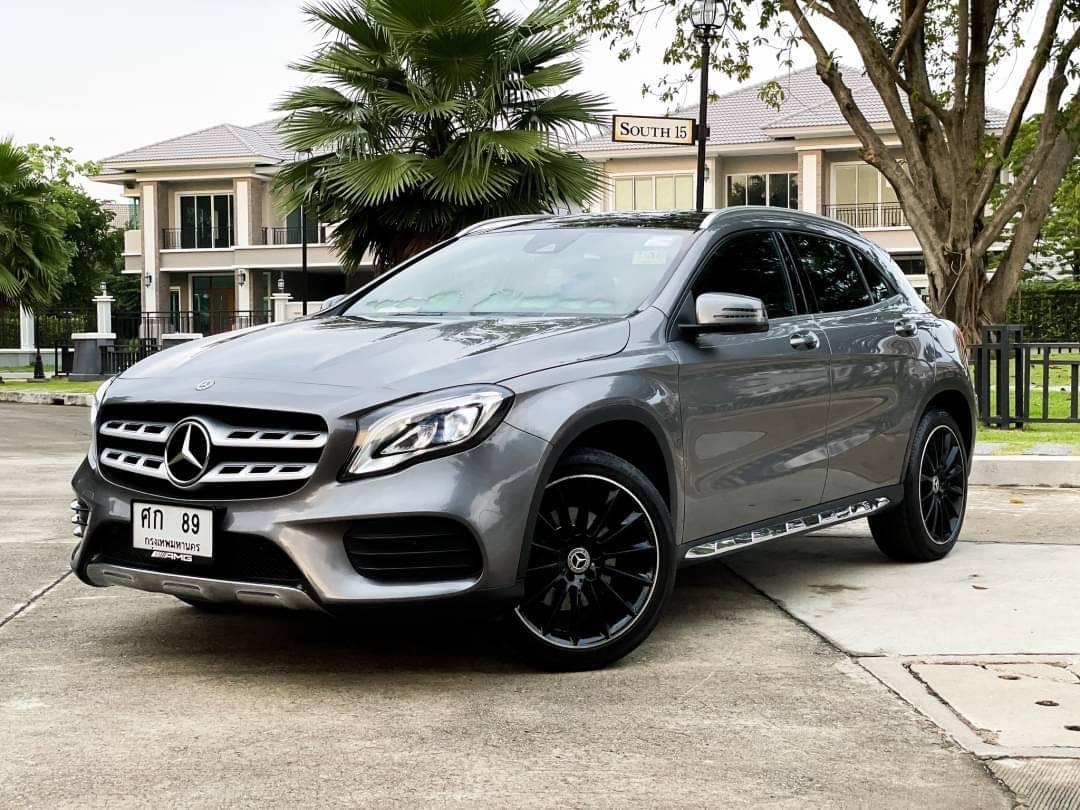license-plate: (129, 497, 220, 565)
